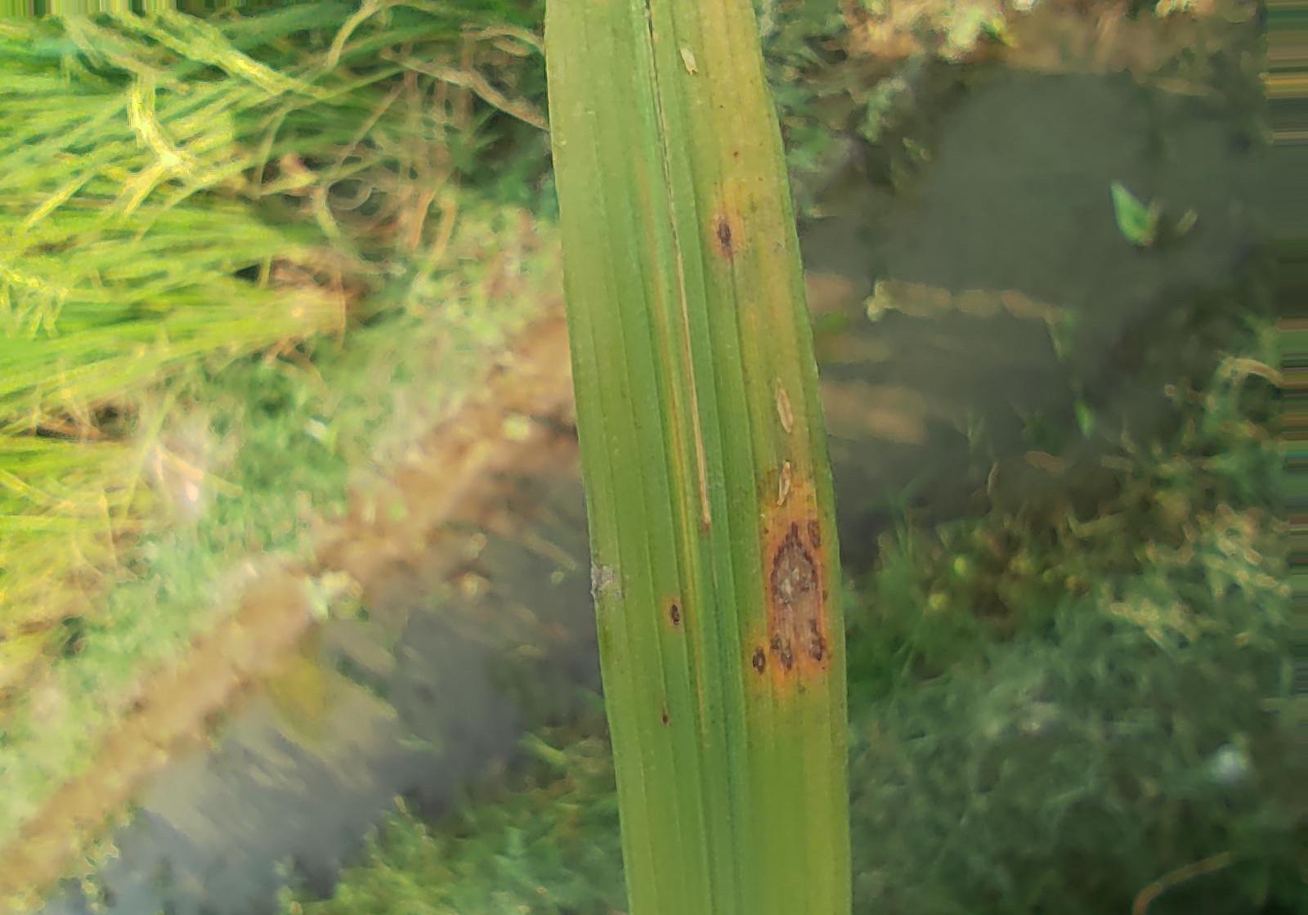LEAF: (547, 0, 852, 914)
LEAF BLAST: (770, 525, 828, 676), (751, 647, 765, 676), (717, 222, 731, 247), (808, 520, 819, 547), (670, 603, 680, 626)
